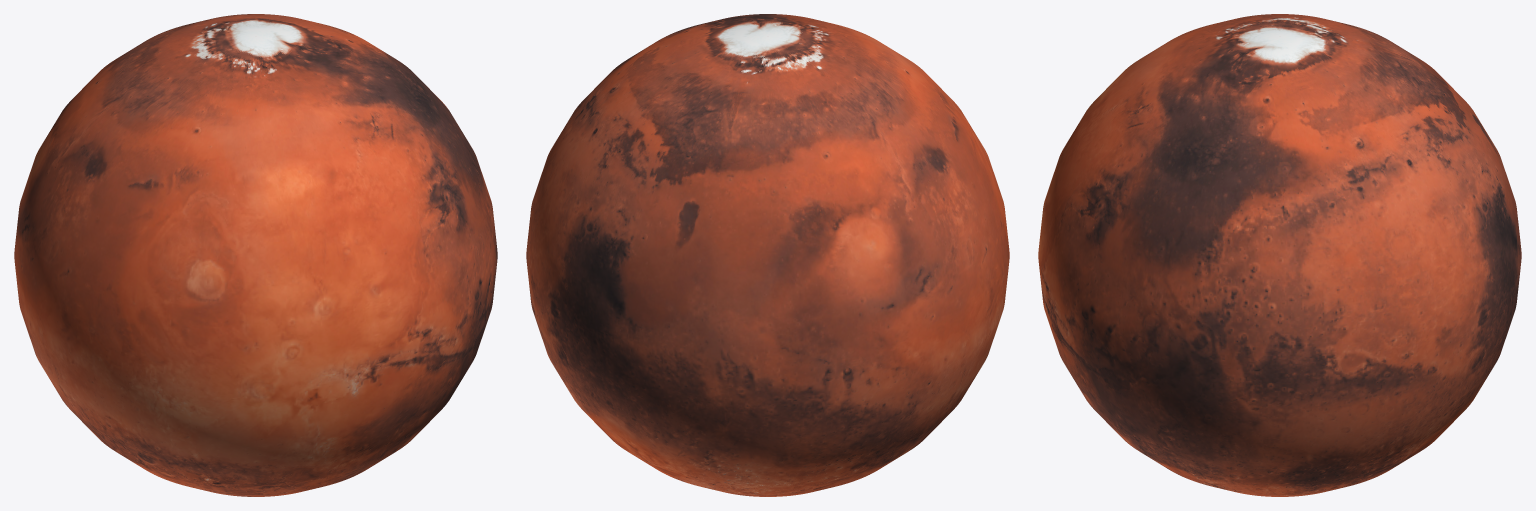
Rendered from Mars.fbx.
3 renders of one model, left to right at view 1: azimuth 30°, elevation 25°; view 2: azimuth 150°, elevation 25°; view 3: azimuth 270°, elevation 25°, orthographic.
Parts seen in each view (by area): view 1: Sphere; view 2: Sphere; view 3: Sphere.
Boxes of the visible parts, x1,y1,x2,y2 form: Sphere: (14,14,497,496); Sphere: (526,14,1009,496); Sphere: (1038,14,1521,496).
Bounding box in the file's own units: 200 × 200 × 200.
1 material, 1 textured.
